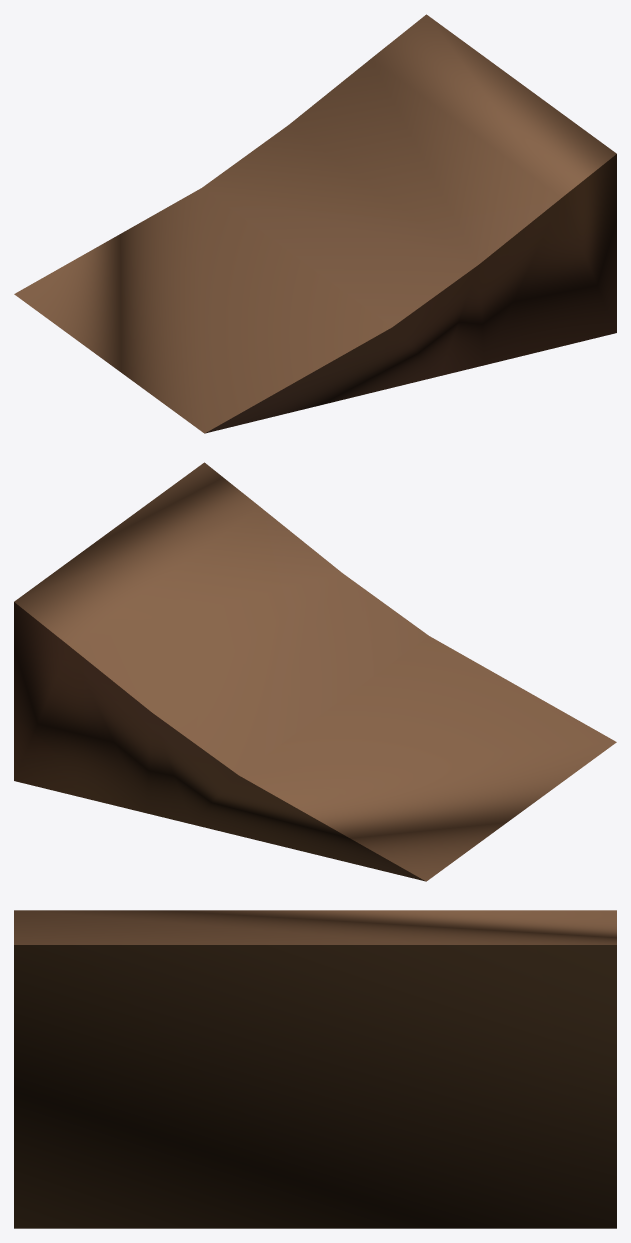
The model's file is SkateboardLaunchRamp.glb.
3 views of the same model, one above another, from view 1: azimuth 30°, elevation 25°; view 2: azimuth 150°, elevation 25°; view 3: azimuth 270°, elevation 25° (orthographic). The views are drawn at different scales.
Parts seen in each view (by area): view 1: SkateboardLaunchRamp; view 2: SkateboardLaunchRamp; view 3: SkateboardLaunchRamp.
Boxes of the visible parts, x1,y1,x2,y2 form: SkateboardLaunchRamp: (14, 14, 616, 433); SkateboardLaunchRamp: (14, 462, 616, 881); SkateboardLaunchRamp: (14, 910, 616, 1228).
Size of the model in its own units: 2.5 by 1.04 by 2.
1 material, 1 textured.
